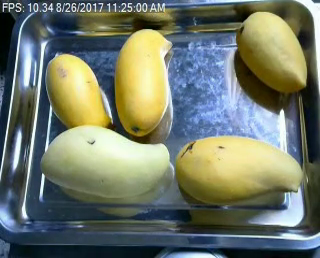Mango: (40, 124, 169, 196), (175, 136, 302, 205), (113, 28, 171, 134), (237, 10, 308, 90), (47, 52, 110, 130)
